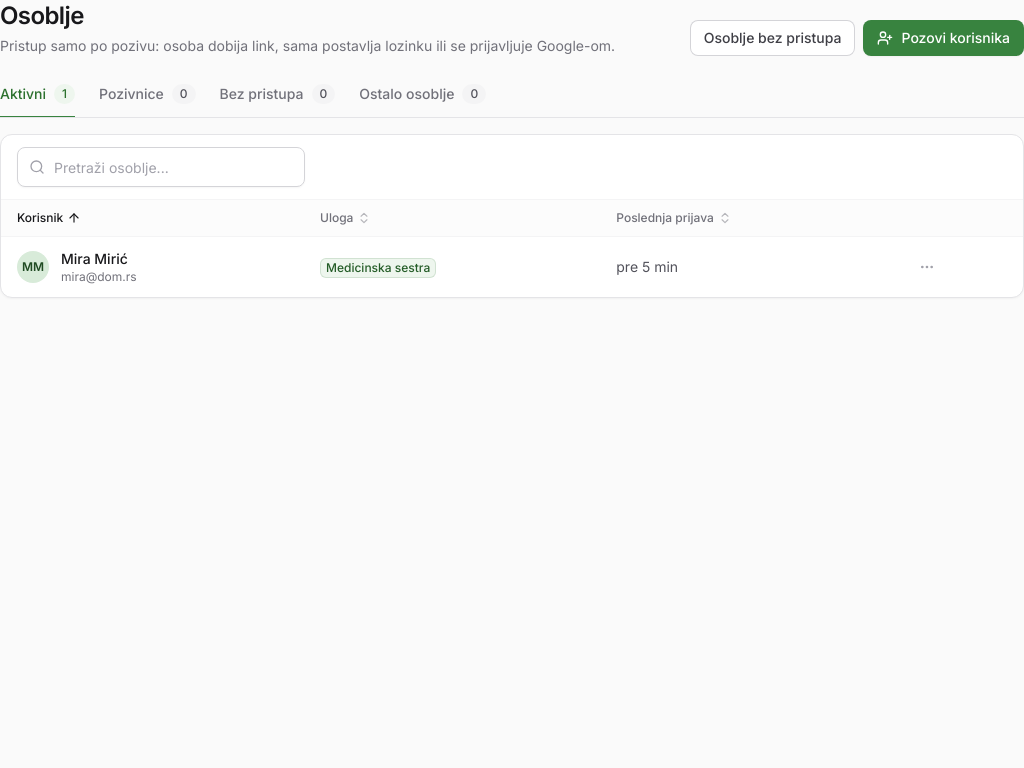
Scenario: korisnici › pozivanje korisničkim imenom daje link za kopiranje
Check: the text "pre 5 min" is shown, box 616,258 -> 678,275
Click the button "Pozovi korisnika" at (944, 38), box 864,20 -> 1023,56
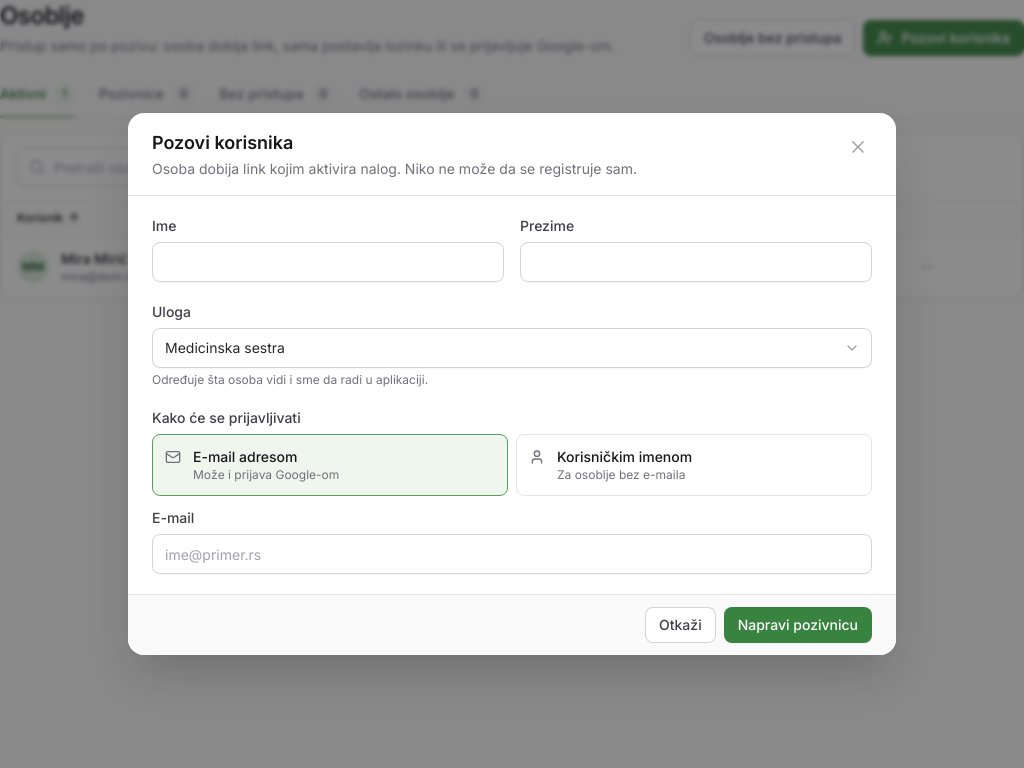
Type "Sanja" into the field labelled "Ime" at (328, 262), box 152,242 -> 504,282
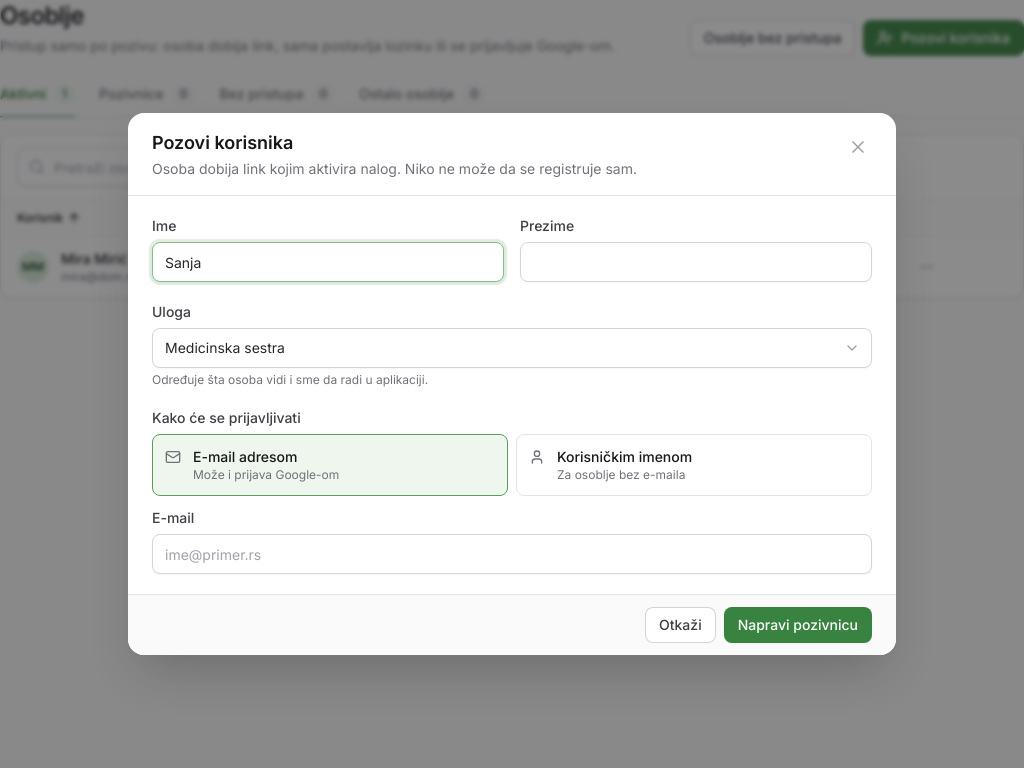
Type "Petrović" into the field labelled "Prezime" at (696, 262), box 520,242 -> 872,282
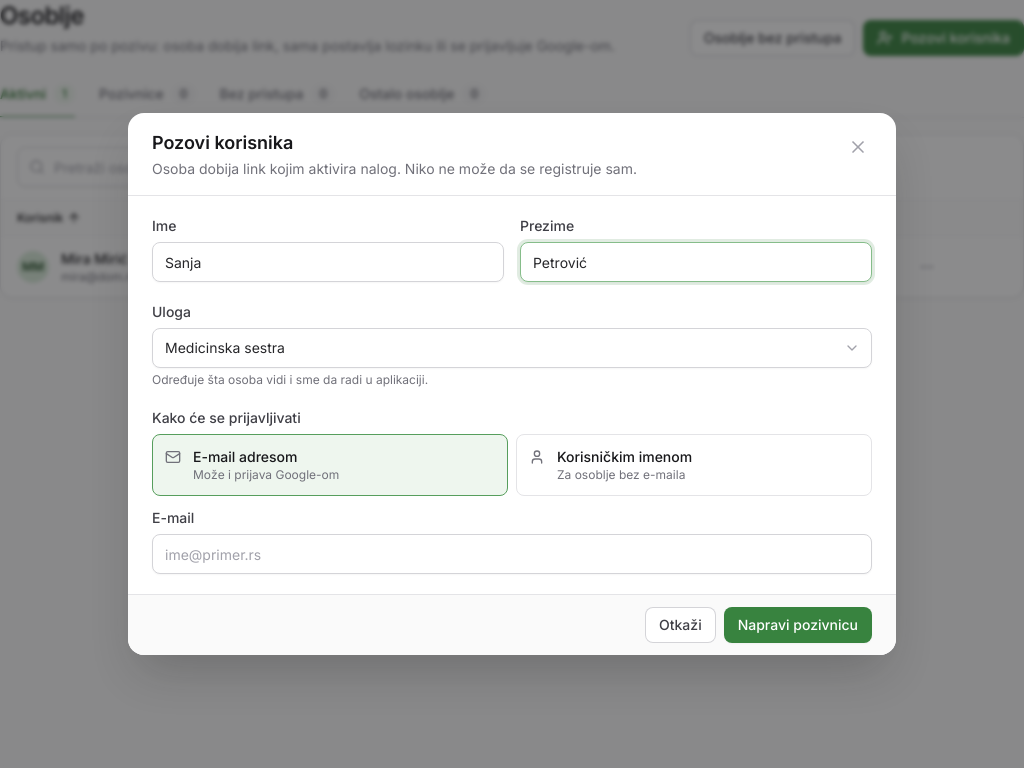
Click the text "Korisničkim imenom" at (625, 457), box 557,447 -> 692,467
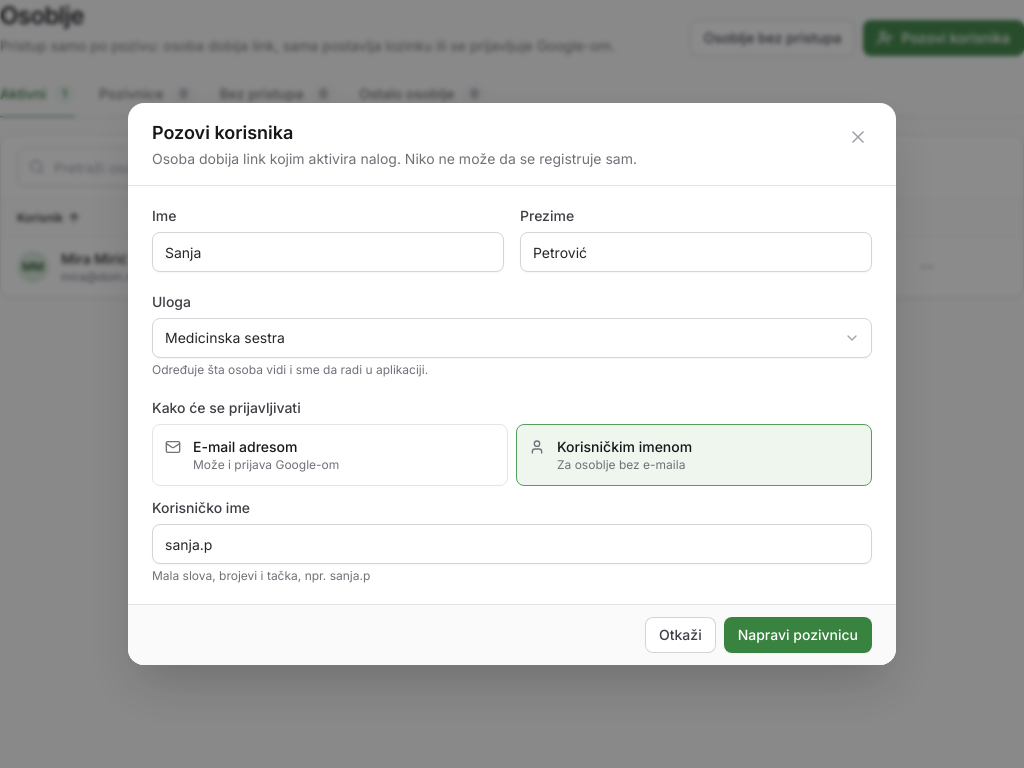
Check: the field labelled "Korisničko ime" holds "sanja.p", box 152,524 -> 872,564
Click the button "Napravi pozivnicu" at (798, 635), box 724,617 -> 872,653
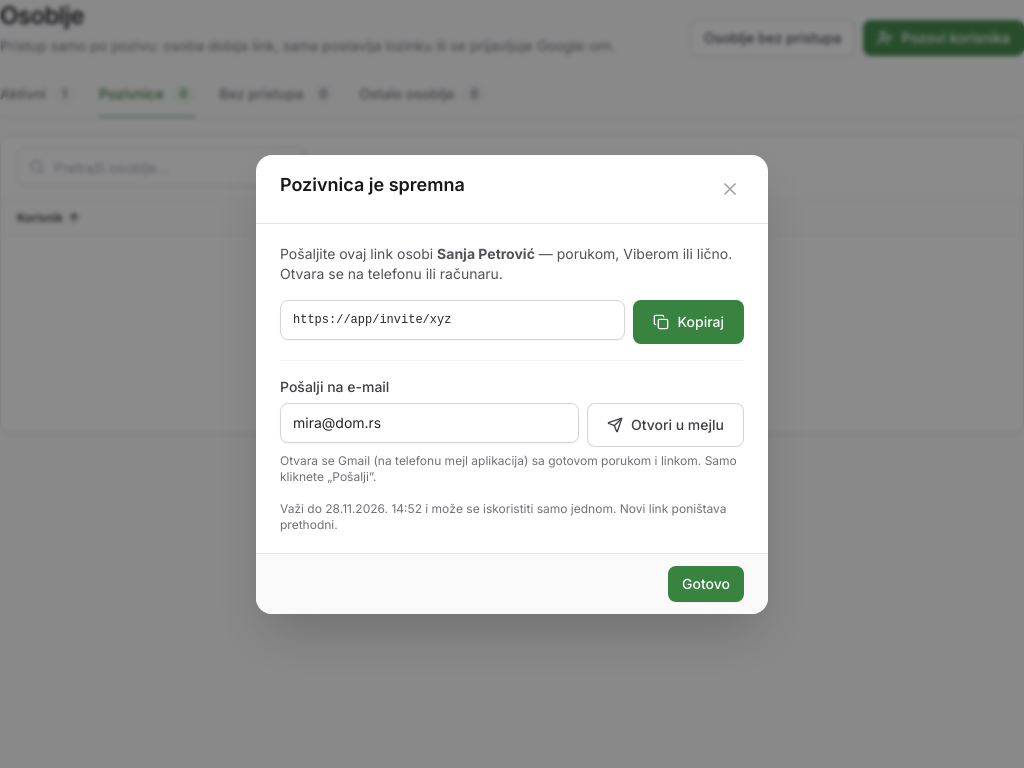
Check: the field named "Link" holds "https://app/invite/xyz", box 280,300 -> 626,340
Check: the text "Viberom ili lično" is shown, box 280,244 -> 732,282
